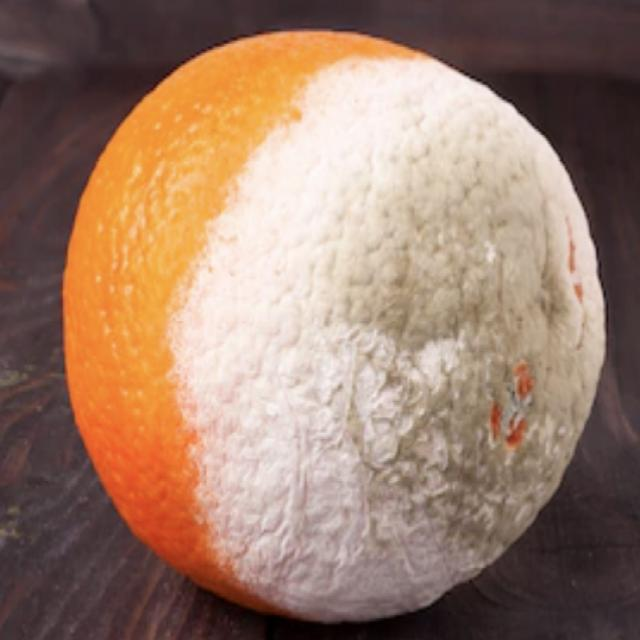rotten-orange: (62, 28, 609, 622)
